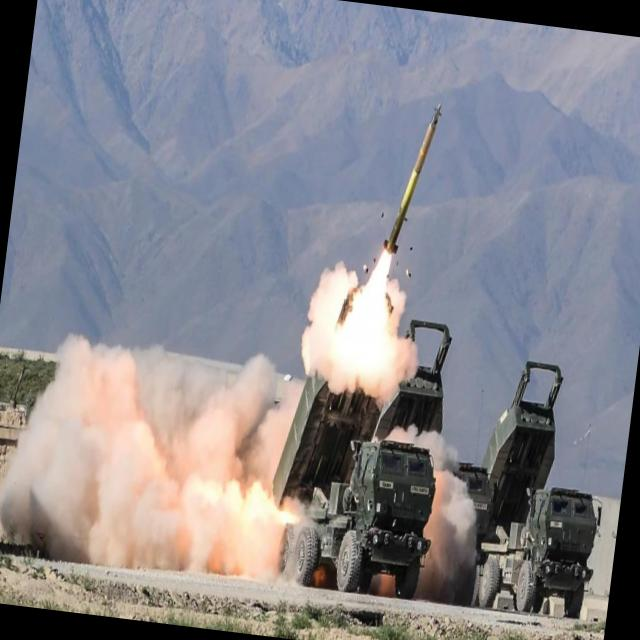rocket: (361, 95, 444, 312)
